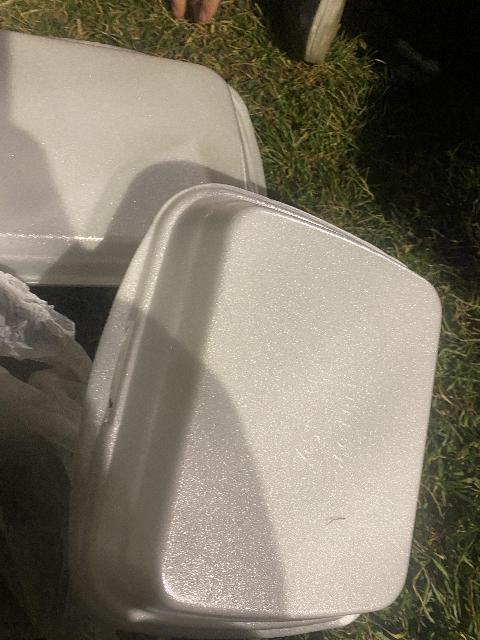Plastik: (76, 184, 440, 637), (0, 32, 268, 271), (0, 273, 73, 640)
